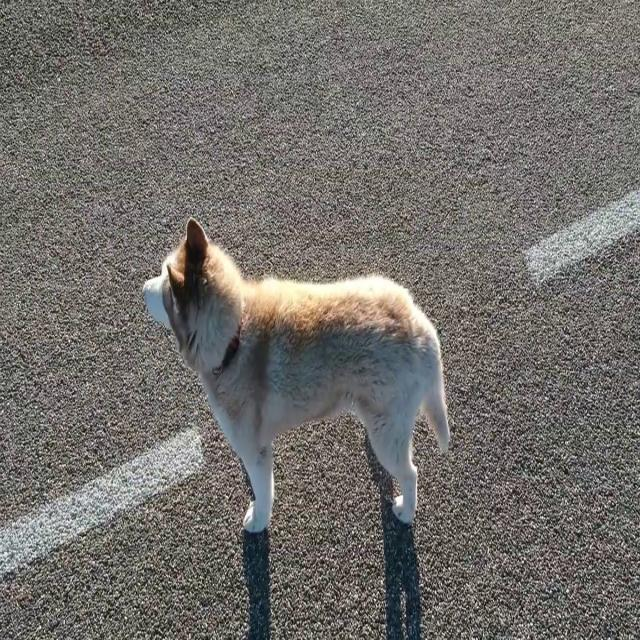Dog: (143, 218, 450, 533)
